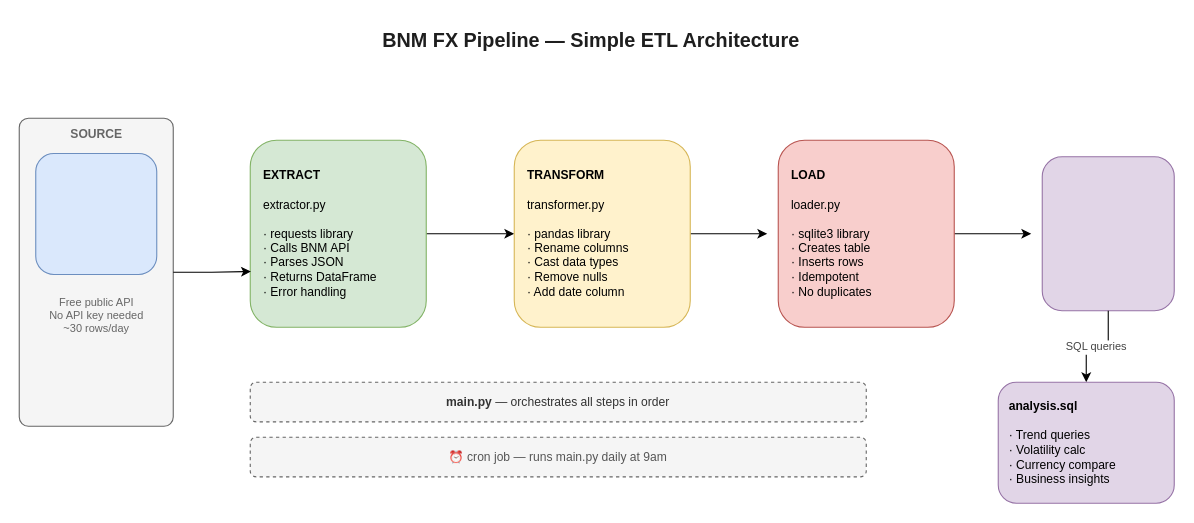
The diagram is 1194 pixels wide and 523 high, and some of its shapes have lost their labels. Here are the shapes that lost their labels. From the top down, the centre of each, then its label:
At point 96,213: "BNM OpenAPI Format: JSON Auth: None Updates: Daily".
At point 1107,233: "SQLite fx_rates.db Table: fx_rates Local file Queryable SQL".
